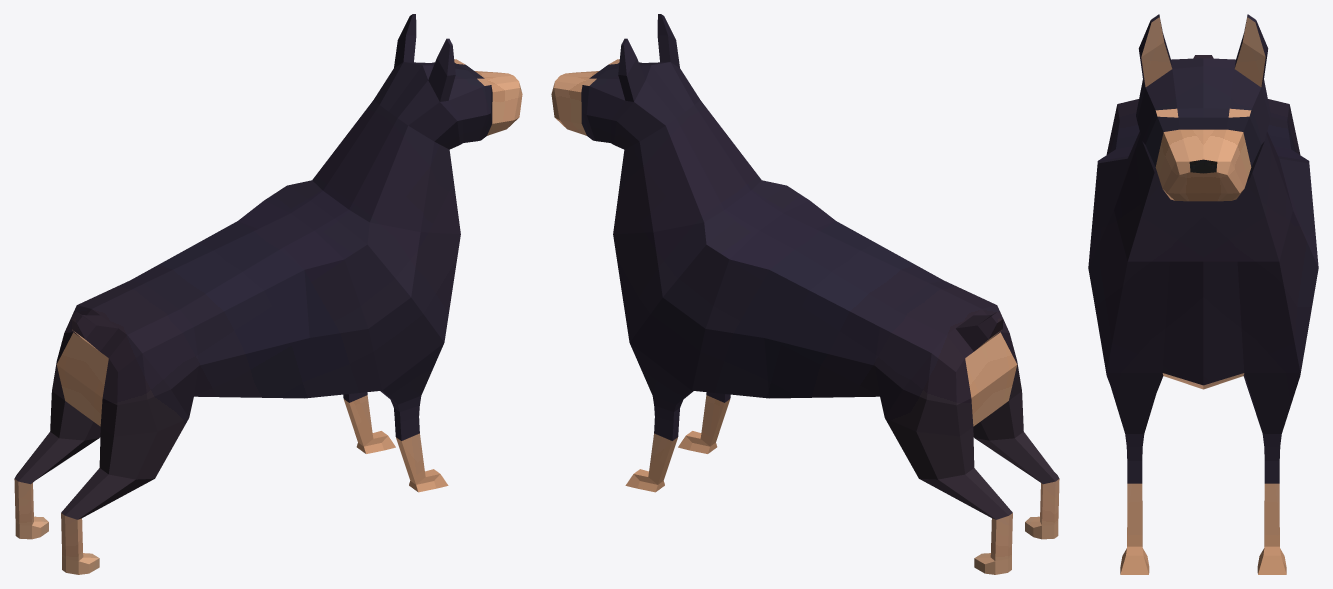
The model's file is Dog.glb.
3 views of the same model, side by side, from view 1: azimuth 30°, elevation 25°; view 2: azimuth 150°, elevation 25°; view 3: azimuth 270°, elevation 25° (orthographic). The views are drawn at different scales.
Visible parts, largest first — view 1: Cube_Cube.001; view 2: Cube_Cube.001; view 3: Cube_Cube.001.
Boxes of the visible parts, x1,y1,x2,y2 form: Cube_Cube.001: [14, 14, 522, 574]; Cube_Cube.001: [551, 14, 1059, 574]; Cube_Cube.001: [1088, 14, 1318, 574].
Size of the model in its own units: 2.62 by 2.28 by 0.836.
1 material, 1 textured.
